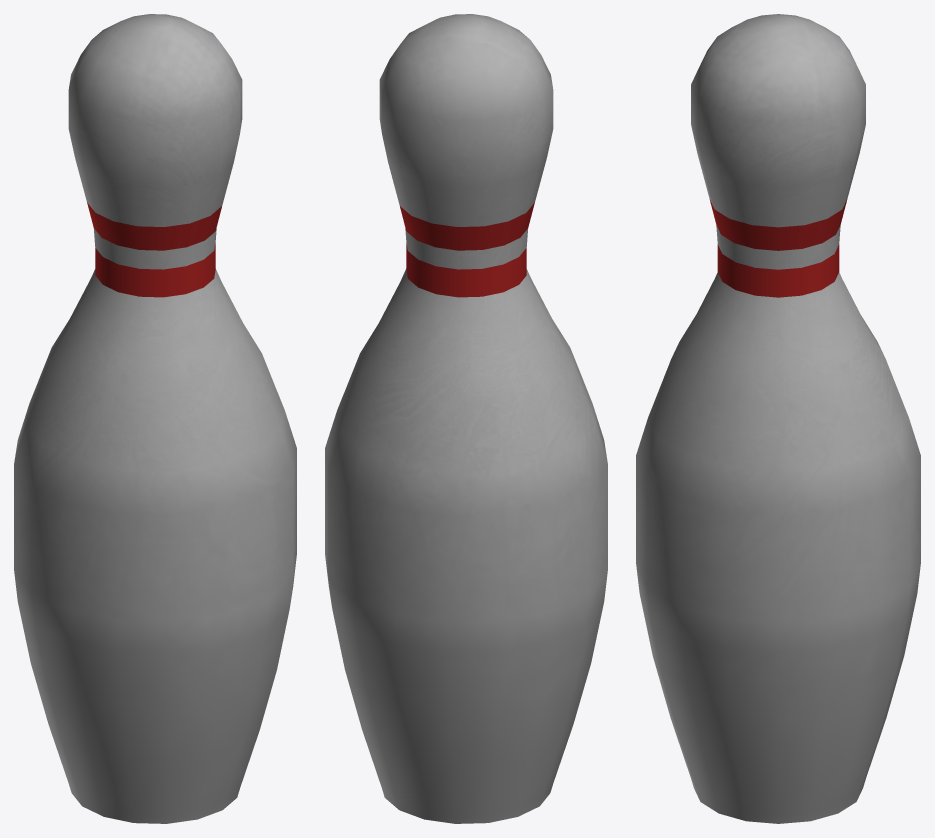
The picture shows the model from 3 angles, left to right: view 1: azimuth 30°, elevation 25°; view 2: azimuth 150°, elevation 25°; view 3: azimuth 270°, elevation 25°; orthographic projection.
Parts seen in each view (by area): view 1: Bowlingpin; view 2: Bowlingpin; view 3: Bowlingpin.
Part boxes in pixels (bbox=[...]): Bowlingpin: bbox=[14, 14, 296, 823]; Bowlingpin: bbox=[325, 14, 607, 823]; Bowlingpin: bbox=[636, 14, 920, 823].
Bounding box in the file's own units: 1.45 × 4.33 × 1.45.
2 materials, 2 textured.
